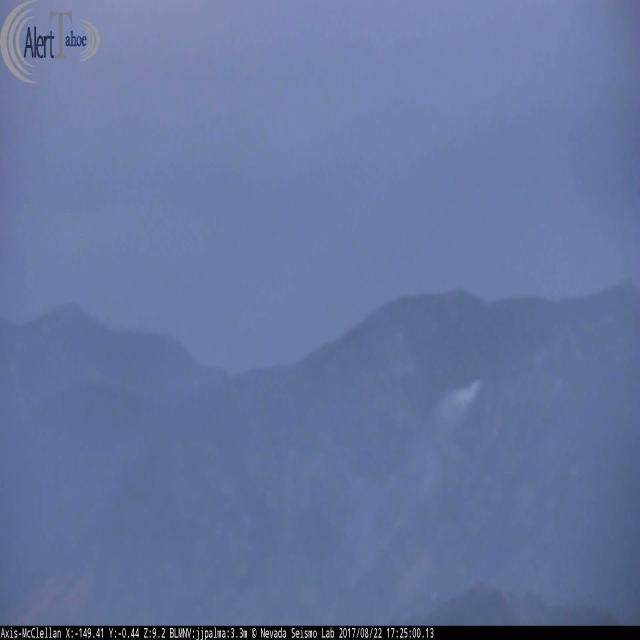smoke: (441, 374, 486, 422)
